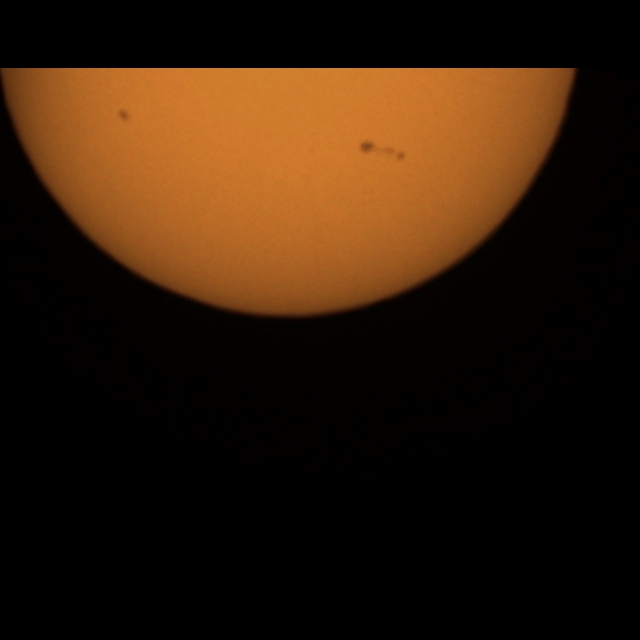sunspot: (358, 138, 407, 162), (358, 138, 376, 156), (115, 107, 131, 124)
